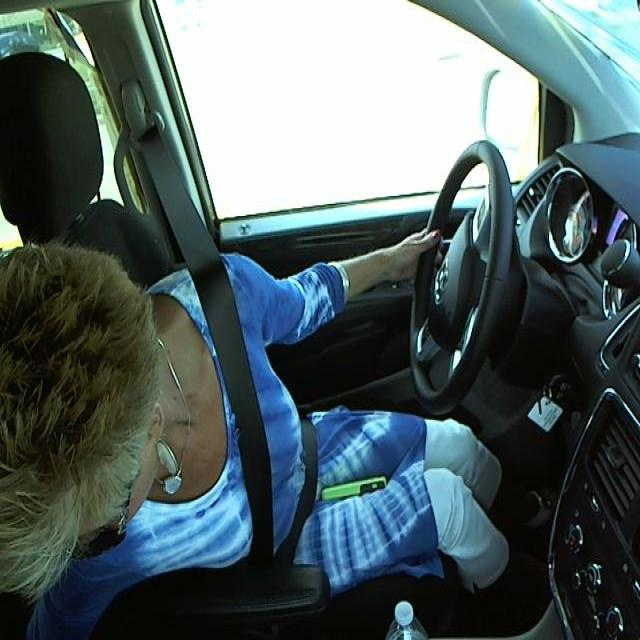seatbelt: (180, 268, 336, 567)
